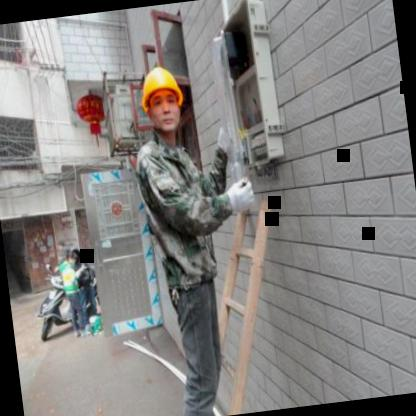helmet: (132, 58, 190, 138)
